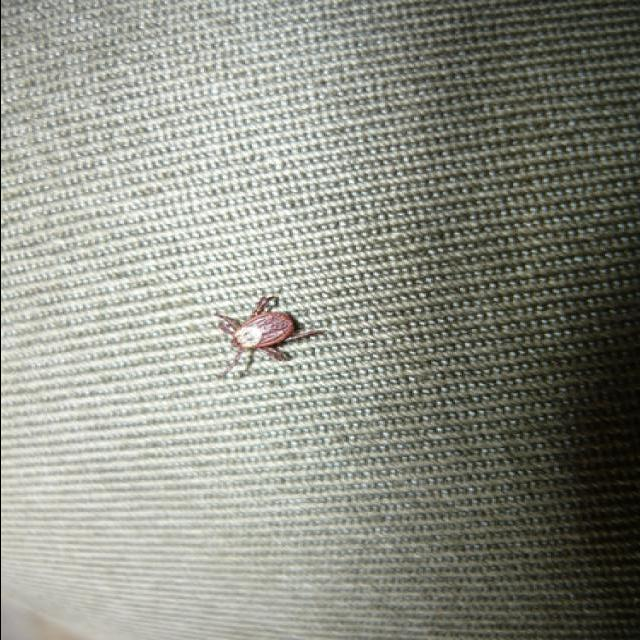Dermacentor Reticulatus-F: (215, 296, 324, 375)
